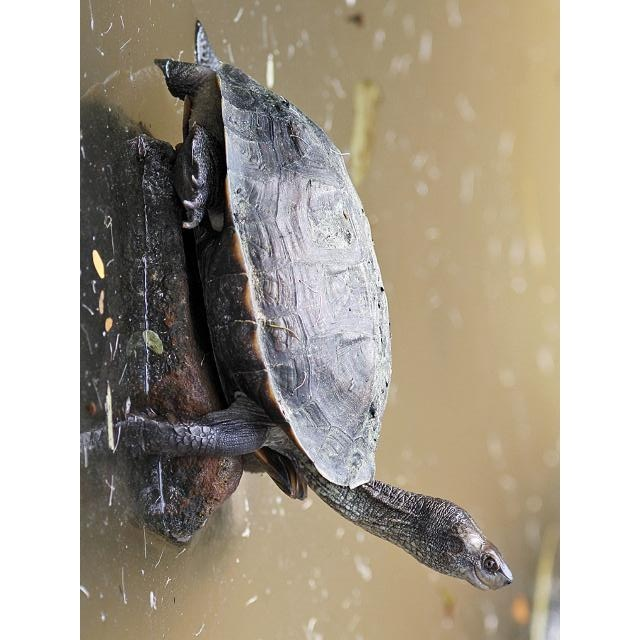turtle: (121, 17, 516, 591)
